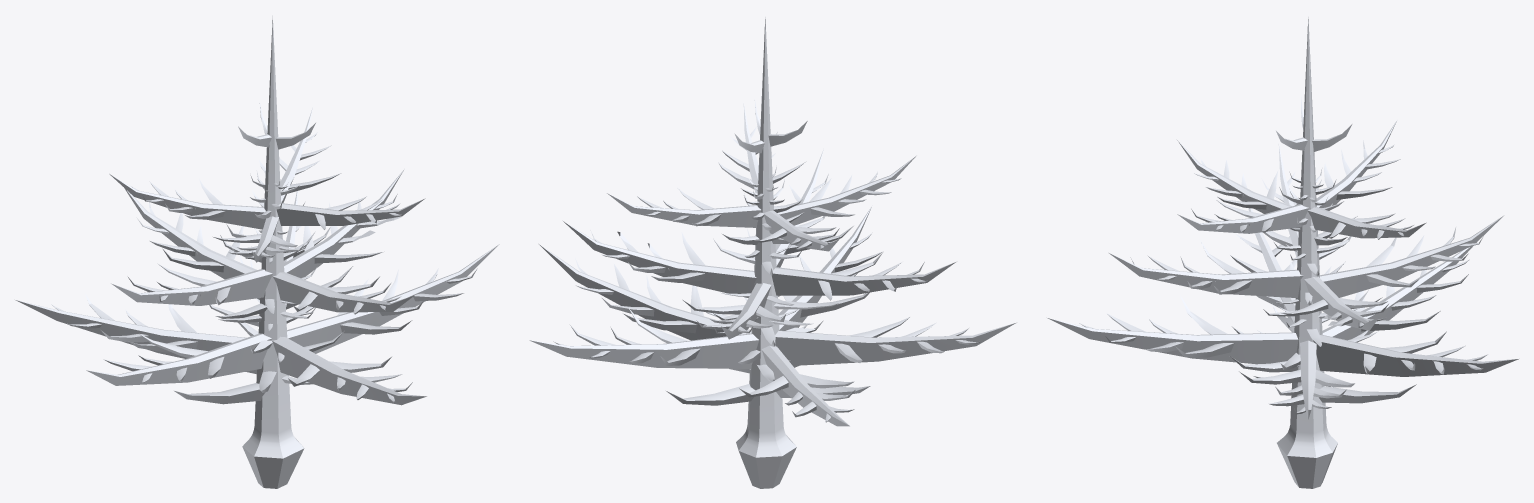
Rendered from tree4.fbx.
3 renders of one model, left to right at view 1: azimuth 30°, elevation 25°; view 2: azimuth 150°, elevation 25°; view 3: azimuth 270°, elevation 25°, orthographic.
Visible parts, largest first — view 1: tree; view 2: tree; view 3: tree.
Boxes of the visible parts, x1,y1,x2,y2 form: tree: [15, 15, 499, 488]; tree: [529, 17, 1016, 488]; tree: [1047, 17, 1518, 488].
Size of the model in its own units: 11930 by 11973 by 10961.
1 material, 1 textured.
